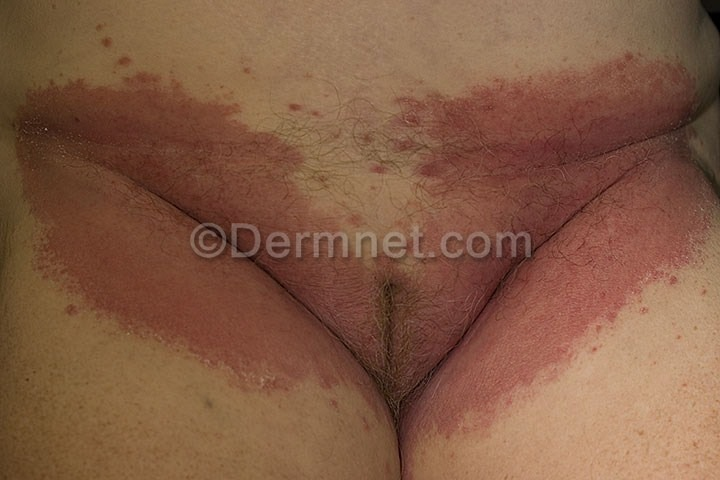Psoriasis: (13, 69, 372, 416), (403, 54, 713, 401)
